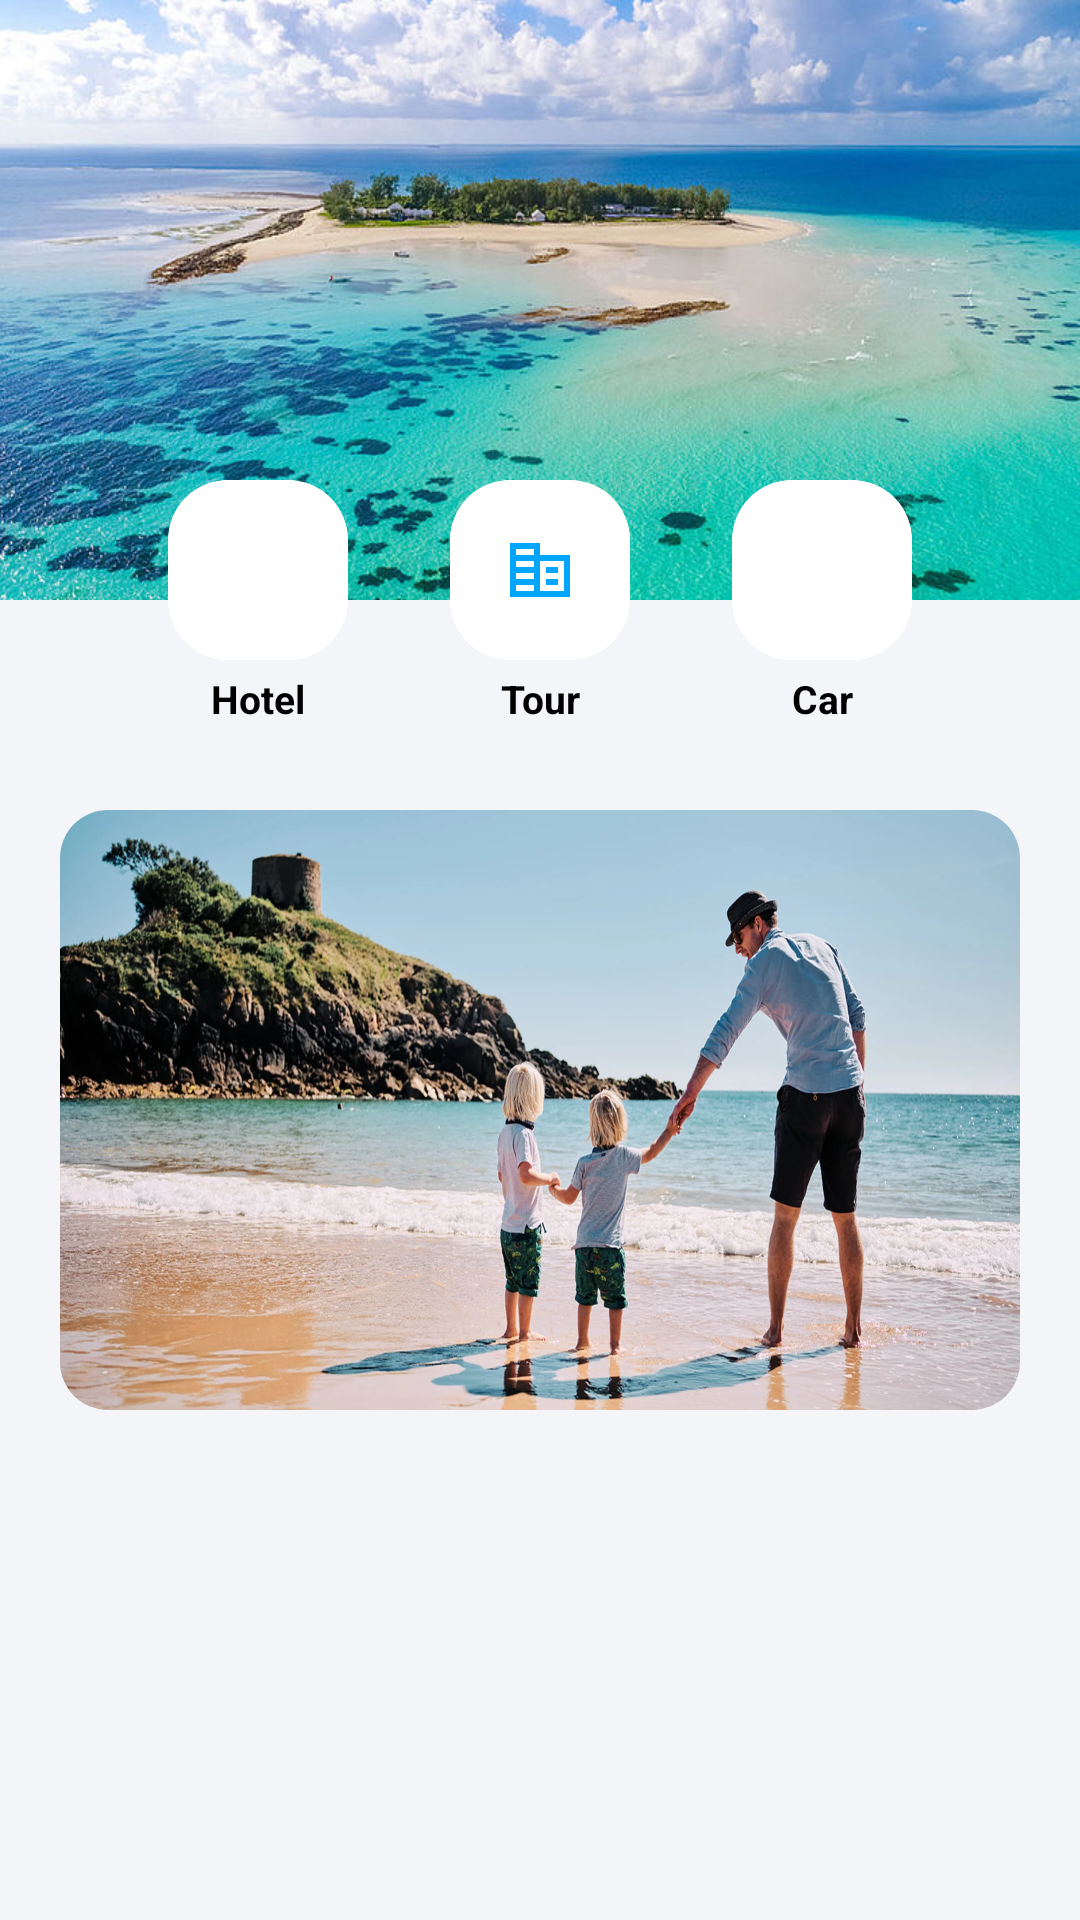

Icons on this 1080w x 1920h Android screen, each with the point to tap as (x=x, y=y):
building: (x=540, y=570)
